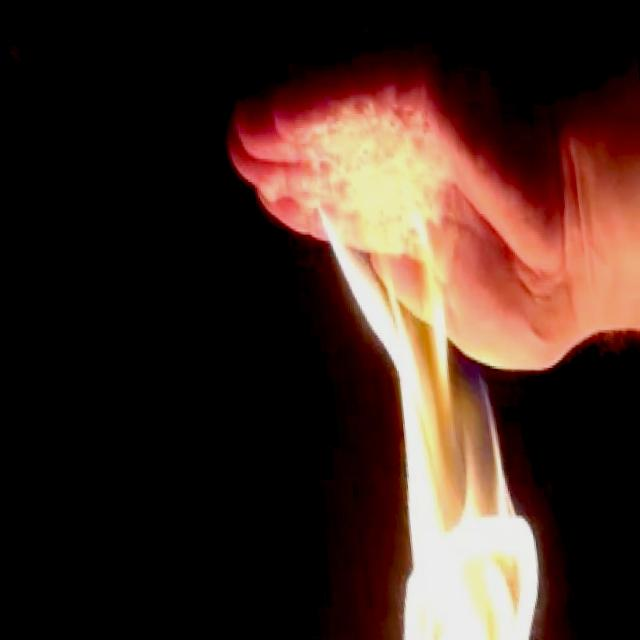helmet: (319, 167, 539, 640)
